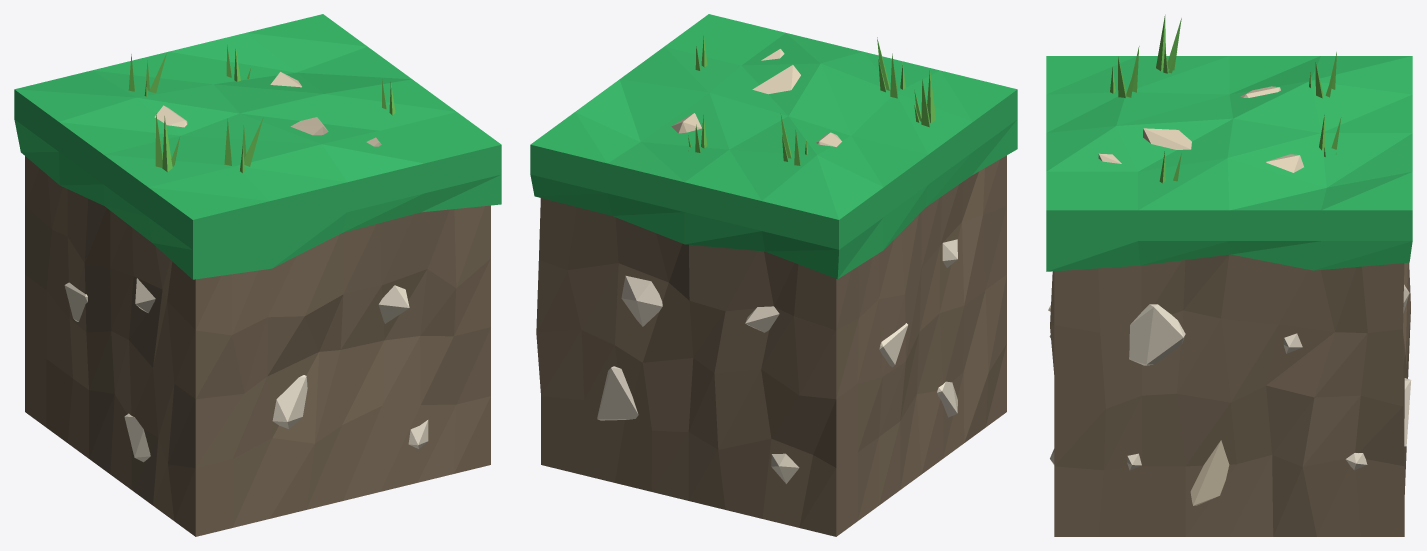
The model's file is tile_plain_material.fbx.
3 views of the same model, side by side, from view 1: azimuth 30°, elevation 25°; view 2: azimuth 150°, elevation 25°; view 3: azimuth 270°, elevation 25° (orthographic). The views are drawn at different scales.
Parts seen in each view (by area): view 1: Cube.002; view 2: Cube.002; view 3: Cube.002.
Boxes of the visible parts, <box> form: Cube.002: <box>14,14,501,536</box>; Cube.002: <box>530,14,1017,536</box>; Cube.002: <box>1046,14,1412,536</box>.
Bounding box in the file's own units: 199 × 233 × 200.
